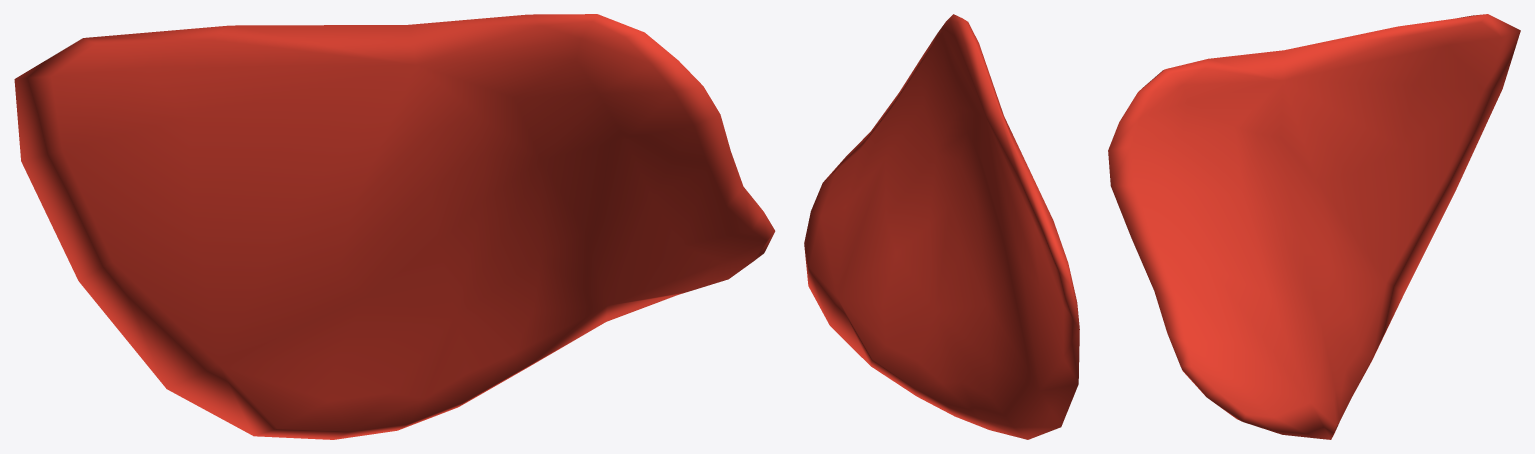
Rendered from Abductor_hallucis_medial_calcaneal_tuberosity_001.glb.
The picture shows the model from 3 angles, left to right: view 1: azimuth 30°, elevation 25°; view 2: azimuth 150°, elevation 25°; view 3: azimuth 270°, elevation 25°; orthographic projection. The views are drawn at different scales.
Visible parts, largest first — view 1: Abductor_hallucis_on_medial_process_of_calcaneal_tuberosity.; view 2: Abductor_hallucis_on_medial_process_of_calcaneal_tuberosity.; view 3: Abductor_hallucis_on_medial_process_of_calcaneal_tuberosity..
Boxes of the visible parts, x1=… form: Abductor_hallucis_on_medial_process_of_calcaneal_tuberosity.: x1=14, y1=14, x2=775, y2=439; Abductor_hallucis_on_medial_process_of_calcaneal_tuberosity.: x1=804, y1=14, x2=1079, y2=439; Abductor_hallucis_on_medial_process_of_calcaneal_tuberosity.: x1=1108, y1=14, x2=1520, y2=439.
Size of the model in its own units: 0.0104 by 0.00829 by 0.00797.
